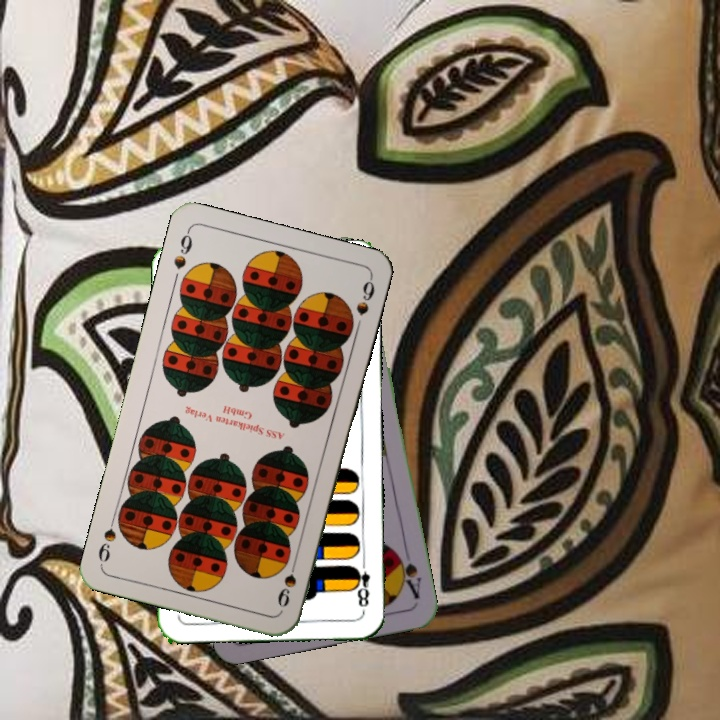E8: (349, 555, 372, 614)
S9: (273, 554, 300, 610), (169, 226, 195, 272)
SA: (391, 547, 424, 602)
